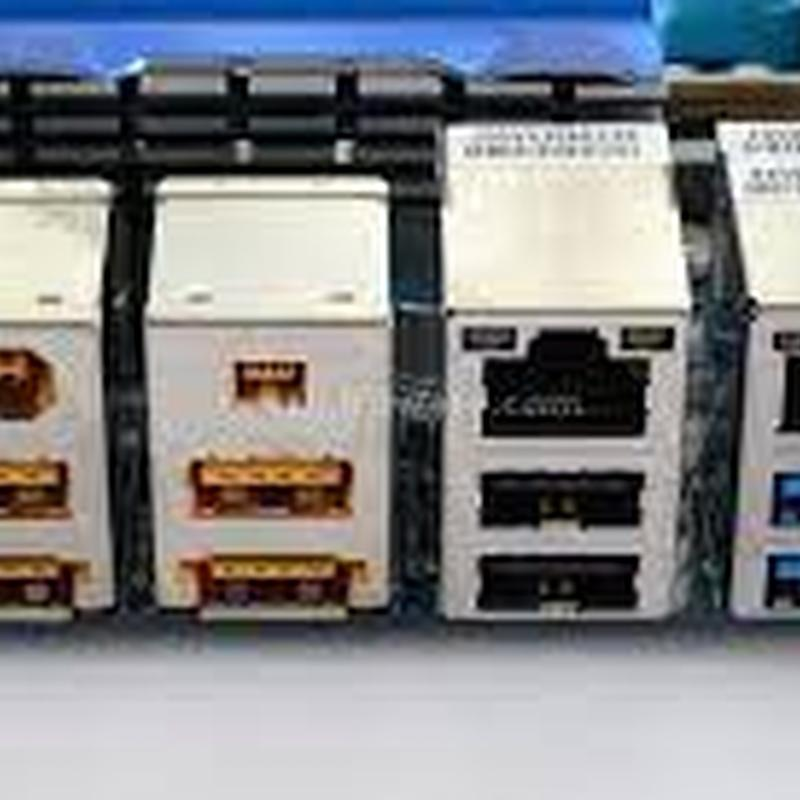ETHERNET: (435, 293, 692, 457)
USB: (181, 543, 388, 639), (179, 434, 375, 532), (455, 463, 660, 543), (468, 549, 655, 630), (0, 538, 90, 652), (0, 440, 93, 534), (758, 550, 799, 633), (757, 467, 799, 539)
